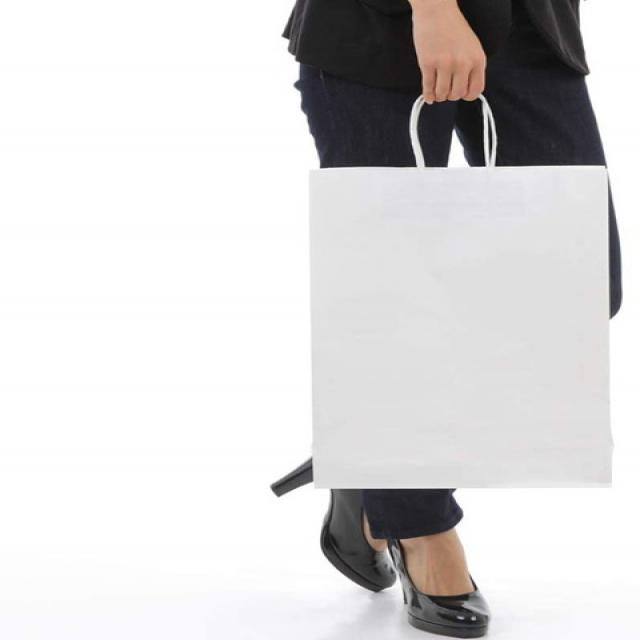paper bag: (306, 83, 615, 493)
